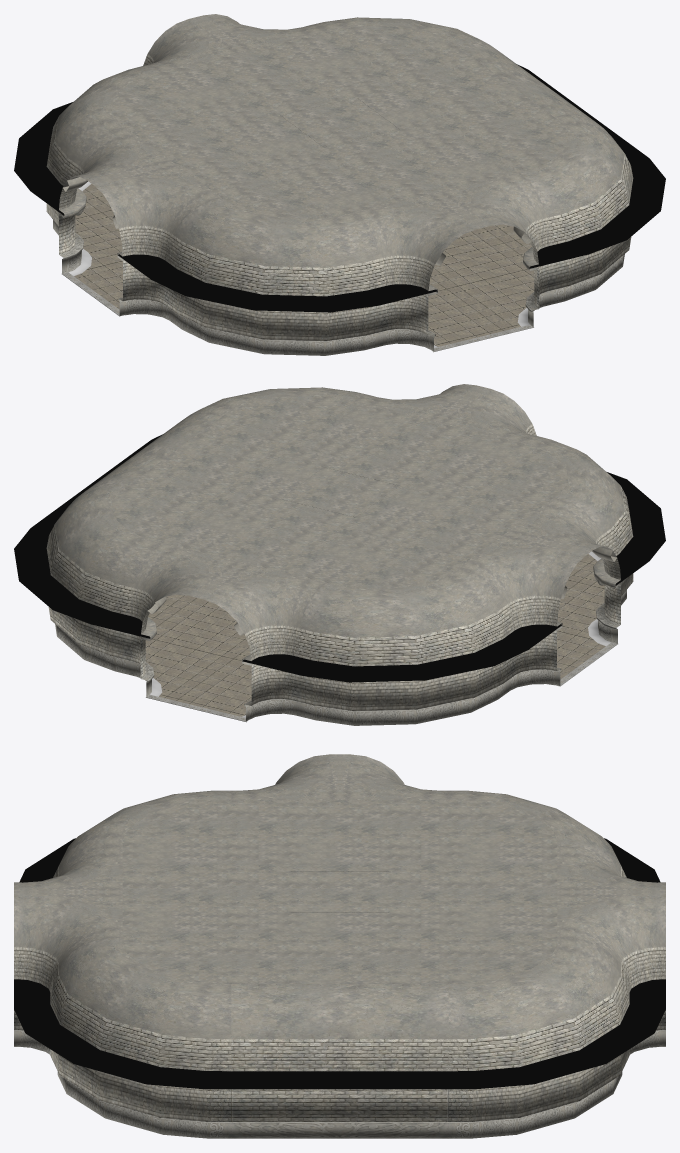
File: dungeon_room_03.fbx
The picture shows the model from 3 angles, top to bottom: view 1: azimuth 30°, elevation 25°; view 2: azimuth 150°, elevation 25°; view 3: azimuth 270°, elevation 25°; orthographic projection. The views are drawn at different scales.
Parts seen in each view (by area): view 1: dungeon_room_03_Roof, dungeon_room_03_Wall; view 2: dungeon_room_03_Roof, dungeon_room_03_Wall; view 3: dungeon_room_03_Roof, dungeon_room_03_Wall.
Part boxes in pixels (x1=…): dungeon_room_03_Roof: x1=46, y1=14, x2=633, y2=296; dungeon_room_03_Wall: x1=14, y1=64, x2=665, y2=355; dungeon_room_03_Roof: x1=46, y1=384, x2=633, y2=666; dungeon_room_03_Wall: x1=14, y1=434, x2=665, y2=725; dungeon_room_03_Roof: x1=14, y1=754, x2=665, y2=1071; dungeon_room_03_Wall: x1=14, y1=838, x2=665, y2=1138.
Bounding box in the file's own units: 270 × 58.19 × 270.
